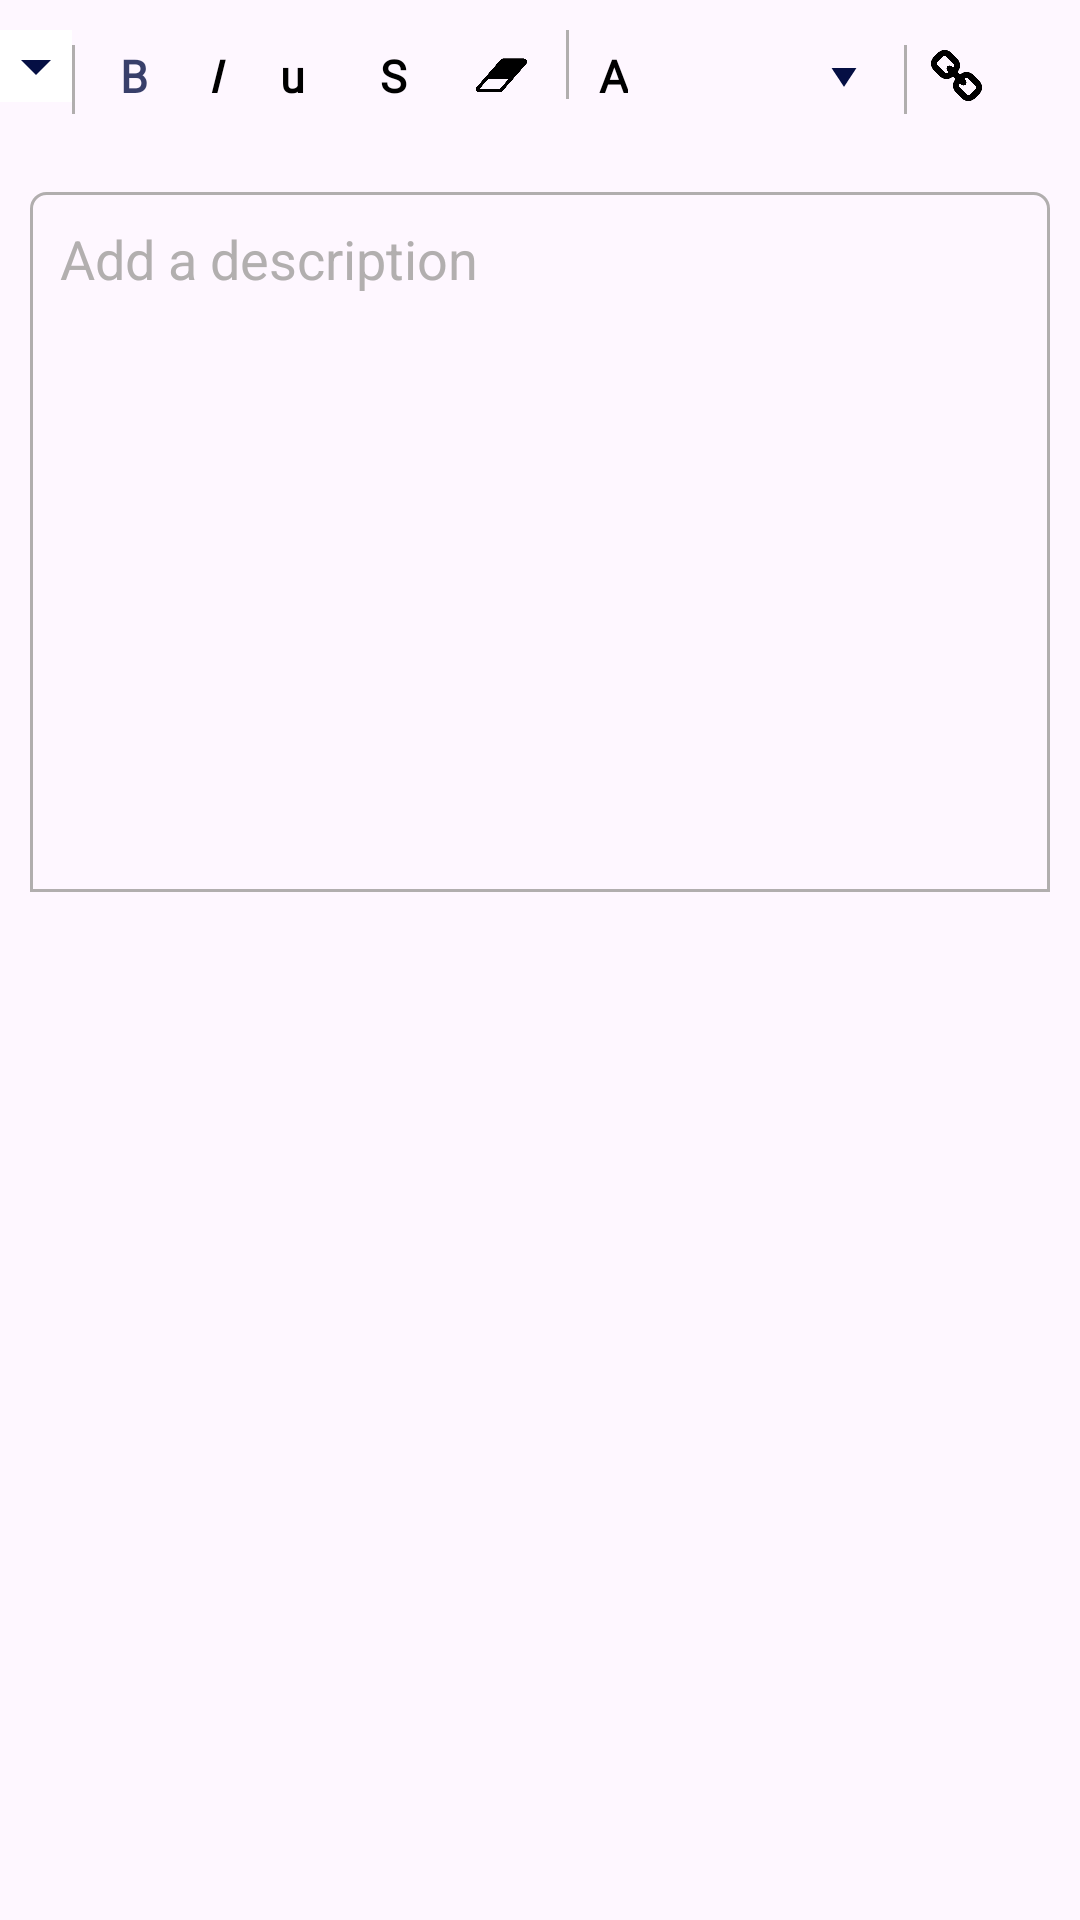

Where icons sit on this 1080w x 1920h app screen, as BBox(x1, y1, x2, y2):
eraser: BBox(476, 58, 527, 92)
link: BBox(931, 50, 982, 101)
